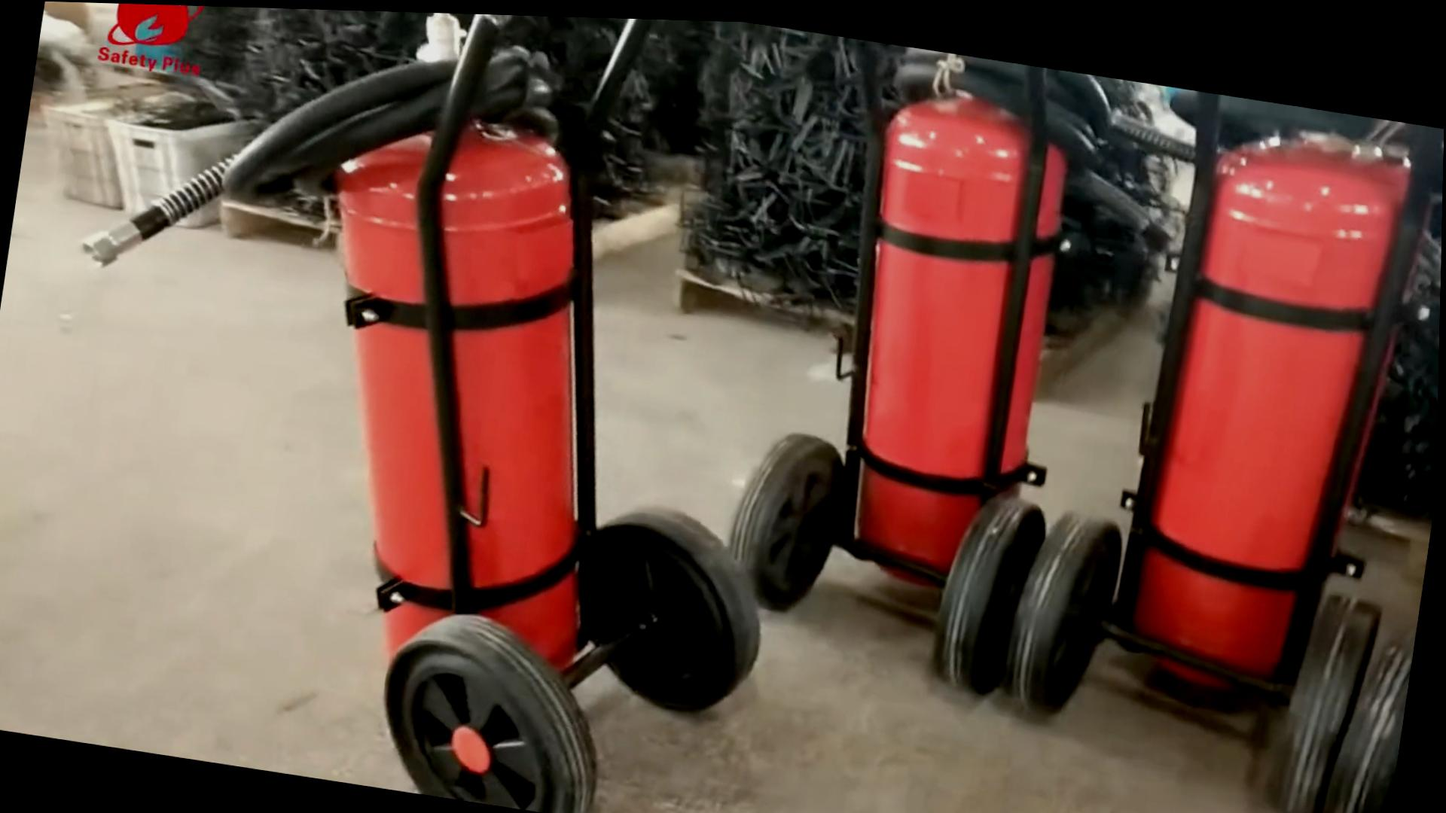FireExtinguisher: (230, 6, 679, 782), (1084, 82, 1442, 751), (779, 42, 1101, 630)
